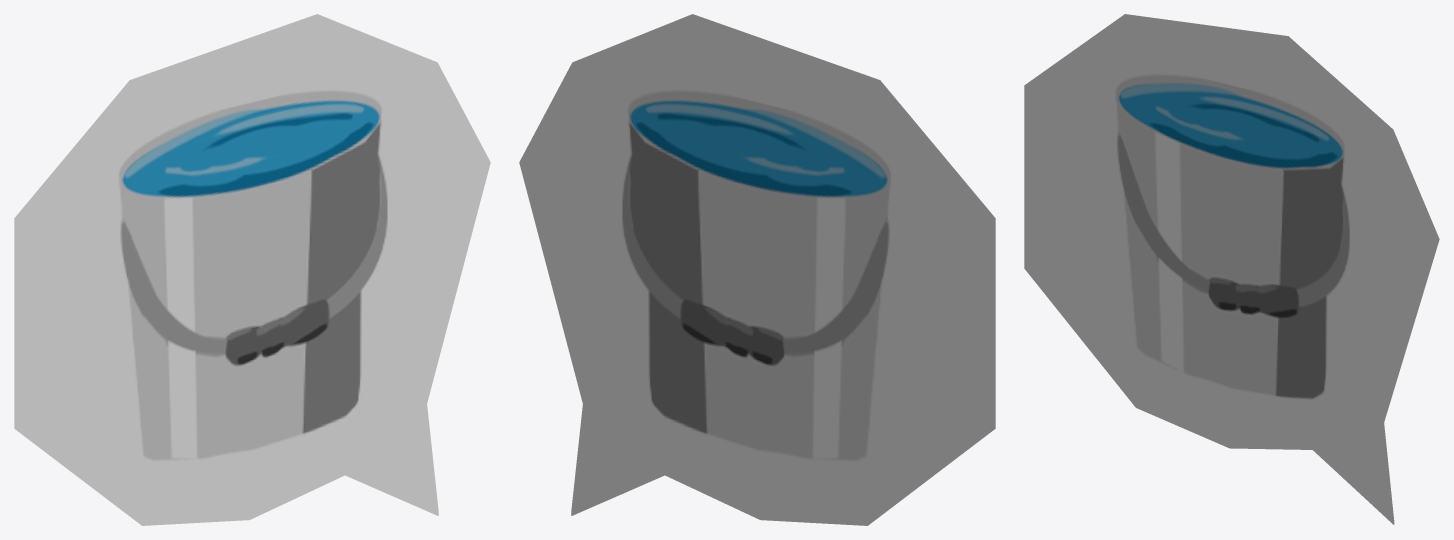
Rendered from baloescortados.dae.
3 views of the same model, side by side, from view 1: azimuth 30°, elevation 25°; view 2: azimuth 150°, elevation 25°; view 3: azimuth 330°, elevation 25° (orthographic). The views are drawn at different scales.
Visible parts, largest first — view 1: balao agua; view 2: balao agua; view 3: balao agua.
Boxes of the visible parts, bbox=[...] form: balao agua: bbox=[14, 14, 490, 525]; balao agua: bbox=[519, 14, 995, 525]; balao agua: bbox=[1024, 14, 1439, 524].
Size of the model in its own units: 1.81 by 8.42e-08 by 1.93.
Materials: 4 (4 with a texture image).
